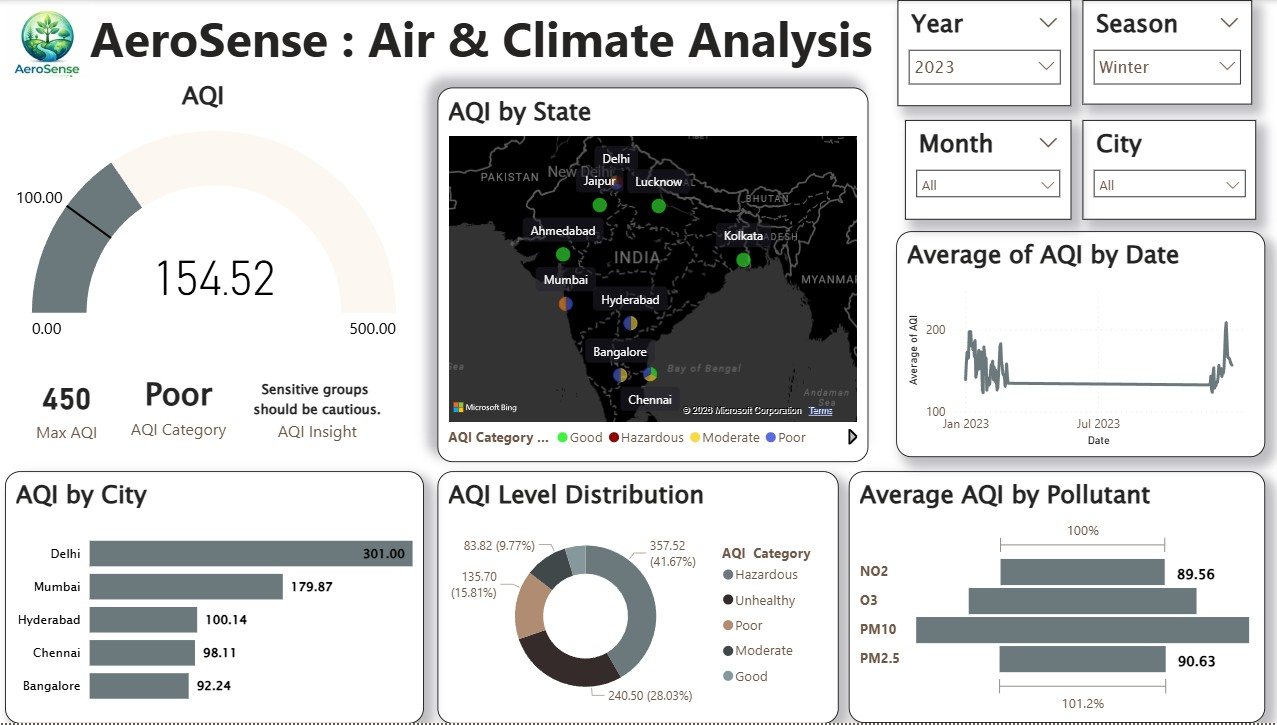

What the dashboard file says about the page in this screenshot:
{"tool":"powerbi","page":{"name":"AQI: Pollutant","canvas":[1280,720],"ordinal":0},"visuals":[{"type":"textbox","box":[81,0,816.5,87.8],"z":0},{"type":"slicer","fields":{"Values":["analysissdata1.Date.Variation.Date Hierarchy.Year"]},"box":[898.1,0,172.9,105.7],"z":1000},{"type":"slicer","fields":{"Values":["analysissdata1.Season"]},"box":[1082.7,0,168.8,104.3],"z":2000},{"type":"image","box":[9.6,0,83.7,87.8],"z":3000},{"type":"card","fields":{"Values":["Max(climatedata.AQI)"]},"box":[10,364.5,123.2,82.1],"z":5000},{"type":"card","fields":{"Values":["climatedata.AQI Category"]},"box":[118.2,359.5,129.4,87.1],"z":6000},{"type":"donutChart","title":"AQI Level Distribution","fields":{"Y":["Avg(climatedata.AQI)"],"Category":["climatedata.AQI Category Column"]},"box":[440.5,469.3,399.3,251.1],"z":7000},{"type":"clusteredBarChart","title":"AQI by City","fields":{"Y":["Avg(climatedata.AQI)"],"Category":["climatedata.City"]},"box":[10,469,416.7,251.3],"z":8000},{"type":"funnel","title":" Average AQI by Pollutant ","fields":{"Y":["Avg(climatedata.NO2)","Avg(climatedata.O3)","Avg(climatedata.PM10)","Avg(climatedata.PM2.5)"]},"box":[849.6,469,414.2,250],"z":9000},{"type":"slicer","fields":{"Values":["climatedata.City"]},"box":[1082.2,119.4,172.9,99.5],"z":10000},{"type":"lineChart","fields":{"Category":["climatedata.Date"],"Y":["Avg(climatedata.AQI)"]},"box":[896.9,230.1,367,225.2],"z":11000},{"type":"slicer","fields":{"Values":["climatedata.Date.Variation.Date Hierarchy.Month"]},"box":[905.6,119.4,165.4,99.5],"z":12000},{"type":"map","title":" AQI by State","fields":{"Category":["climatedata.City"],"Series":["climatedata.AQI Category Column"]},"box":[440.4,87.1,429.2,373.2],"z":13000},{"type":"card","fields":{"Values":["climatedata.AQI Insight"]},"box":[247.5,367,146.8,79.6],"z":14000},{"type":"gauge","title":"AQI","fields":{"Y":["Avg(climatedata.AQI)"]},"box":[10,77.1,394.3,282.4],"z":16000}]}

Visuals, with their boxes in screenshot pixels (x1, y1, x2, y2), scaled from the page's 1280x720 canvas onto the 1277x725 screenshot:
textbox: pyautogui.locateOnScreen(81, 0, 895, 88)
slicer - analysissdata1.Date.Variation.Date Hierarchy.Year: pyautogui.locateOnScreen(896, 0, 1068, 106)
slicer - analysissdata1.Season: pyautogui.locateOnScreen(1080, 0, 1249, 105)
image: pyautogui.locateOnScreen(10, 0, 93, 88)
card - Max(climatedata.AQI): pyautogui.locateOnScreen(10, 367, 133, 450)
card - climatedata.AQI Category: pyautogui.locateOnScreen(118, 362, 247, 450)
"AQI Level Distribution" donutChart: pyautogui.locateOnScreen(439, 473, 838, 724)
"AQI by City" clusteredBarChart: pyautogui.locateOnScreen(10, 472, 426, 724)
" Average AQI by Pollutant " funnel: pyautogui.locateOnScreen(848, 472, 1261, 724)
slicer - climatedata.City: pyautogui.locateOnScreen(1080, 120, 1252, 220)
lineChart - climatedata.Date x Avg(climatedata.AQI): pyautogui.locateOnScreen(895, 232, 1261, 458)
slicer - climatedata.Date.Variation.Date Hierarchy.Month: pyautogui.locateOnScreen(903, 120, 1068, 220)
" AQI by State" map: pyautogui.locateOnScreen(439, 88, 868, 463)
card - climatedata.AQI Insight: pyautogui.locateOnScreen(247, 370, 393, 450)
"AQI" gauge: pyautogui.locateOnScreen(10, 78, 403, 362)
